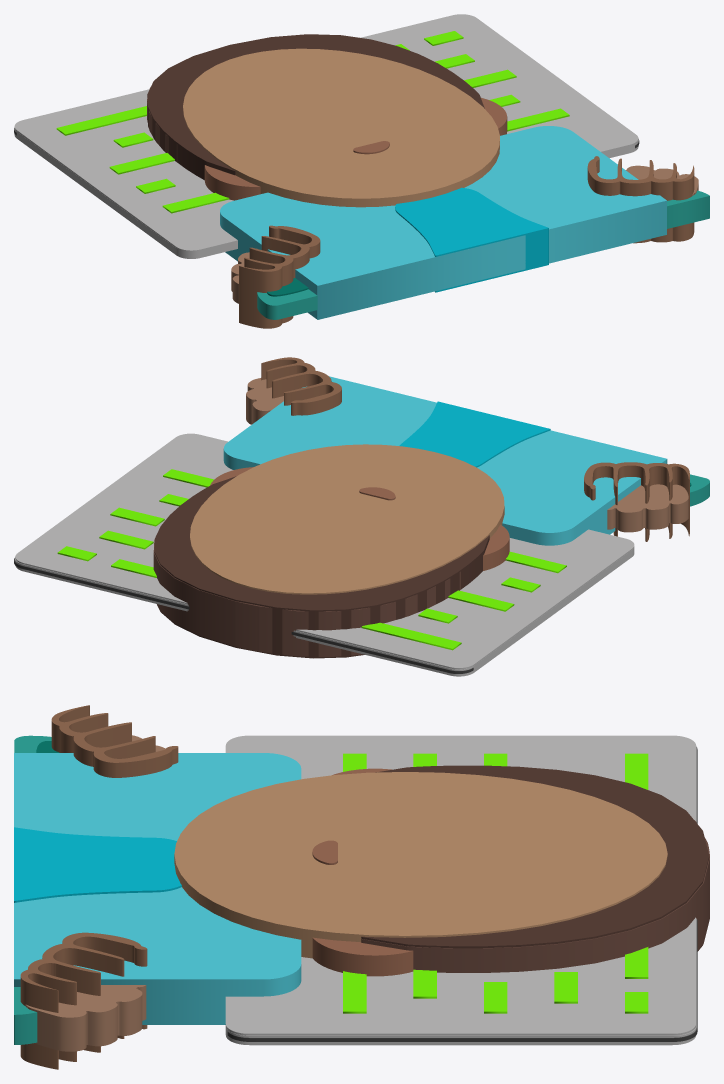
Rendered from emoji_u1f468_1f3fd_200d_1f4bb.glb.
The picture shows the model from 3 angles, top to bottom: view 1: azimuth 30°, elevation 25°; view 2: azimuth 150°, elevation 25°; view 3: azimuth 270°, elevation 25°; orthographic projection. The views are drawn at different scales.
Parts seen in each view (by area): view 1: emoji_u1f468_1f3fd_200d_1f4bb; view 2: emoji_u1f468_1f3fd_200d_1f4bb; view 3: emoji_u1f468_1f3fd_200d_1f4bb.
Part boxes in pixels (box(x1,y1,x2,y2)): emoji_u1f468_1f3fd_200d_1f4bb: box(14, 14, 709, 328); emoji_u1f468_1f3fd_200d_1f4bb: box(14, 357, 709, 676); emoji_u1f468_1f3fd_200d_1f4bb: box(14, 705, 709, 1069).
Bounding box in the file's own units: 0.0339 × 0.0042 × 0.0333.
